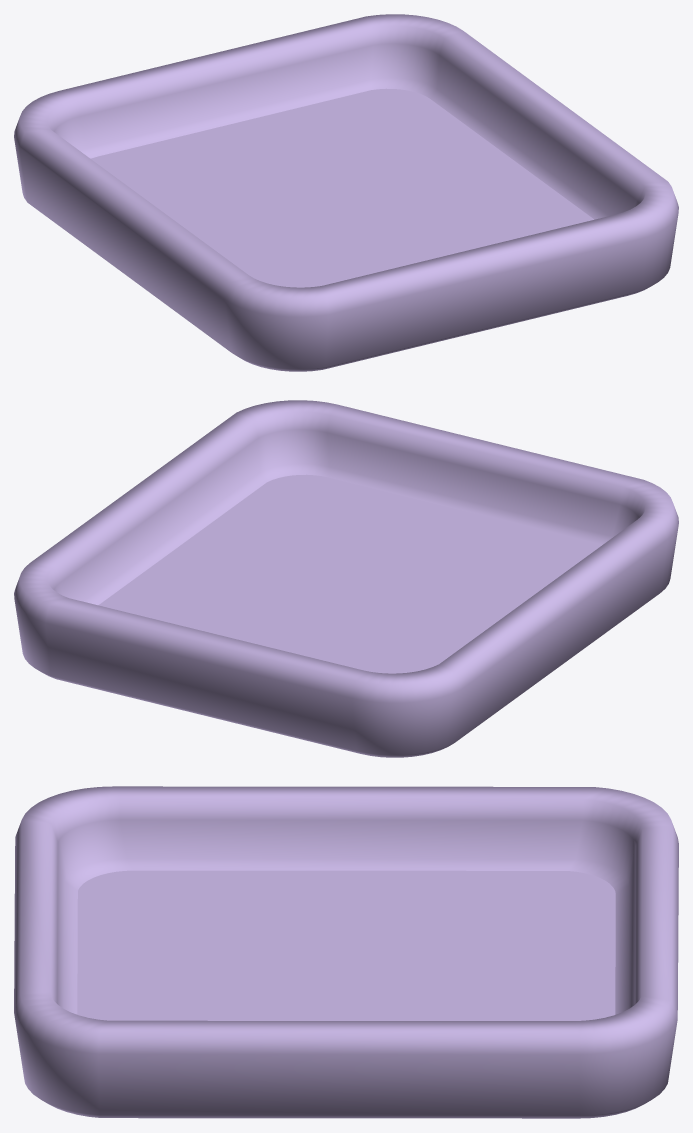
File: tray.glb
3 renders of one model, top to bottom at view 1: azimuth 30°, elevation 25°; view 2: azimuth 150°, elevation 25°; view 3: azimuth 270°, elevation 25°, orthographic. The views are drawn at different scales.
Parts seen in each view (by area): view 1: tray_shell; view 2: tray_shell; view 3: tray_shell.
Part boxes in pixels (x1=…): tray_shell: x1=14, y1=14, x2=678, y2=371; tray_shell: x1=14, y1=400, x2=678, y2=757; tray_shell: x1=14, y1=786, x2=678, y2=1118.
Bounding box in the file's own units: 0.9 × 0.15 × 1.
